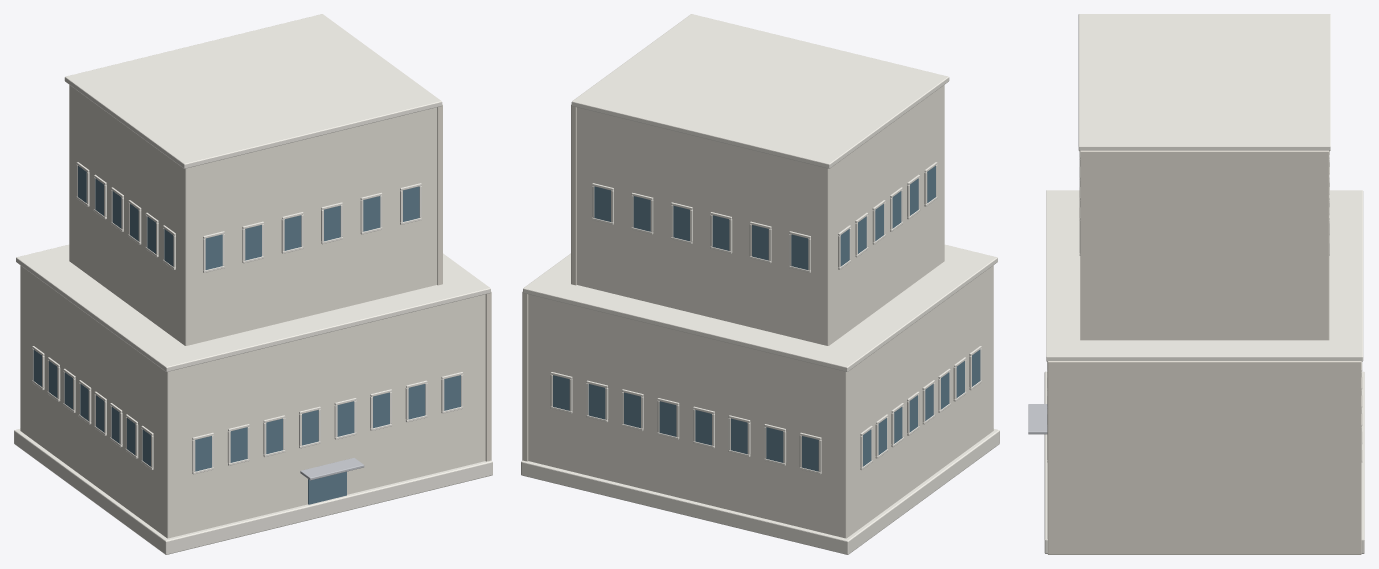
The model's file is bldg_cream_block.glb.
3 views of the same model, side by side, from view 1: azimuth 30°, elevation 25°; view 2: azimuth 150°, elevation 25°; view 3: azimuth 270°, elevation 25° (orthographic). The views are drawn at different scales.
Parts seen in each view (by area): view 1: bldg_cream_block_band_0_wall, bldg_cream_block_band_1_wall, bldg_cream_block_band_1_cornice, bldg_cream_block_band_0_cornice, bldg_cream_block_plinth, bldg_cream_block_band_0_pilaster, bldg_cream_block_band_1_pilaster, bldg_cream_block_entrance, bldg_cream_block_canopy, bldg_cream_block_band_0_back_6_glass, bldg_cream_block_band_0_back_1_glass, bldg_cream_block_band_0_back_4_glass (+3 smaller); view 2: bldg_cream_block_band_0_wall, bldg_cream_block_band_1_wall, bldg_cream_block_band_1_cornice, bldg_cream_block_band_0_cornice, bldg_cream_block_plinth, bldg_cream_block_band_0_pilaster, bldg_cream_block_band_1_pilaster, bldg_cream_block_band_0_front_6_glass, bldg_cream_block_band_0_front_1_glass, bldg_cream_block_band_0_front_4_glass, bldg_cream_block_band_1_front_0_glass, bldg_cream_block_band_1_front_2_glass (+1 smaller); view 3: bldg_cream_block_band_0_pilaster, bldg_cream_block_band_1_pilaster, bldg_cream_block_band_1_cornice, bldg_cream_block_band_0_cornice, bldg_cream_block_plinth, bldg_cream_block_canopy.
Part boxes in pixels (<box>): bldg_cream_block_band_0_wall: <box>20,265,485,538</box>; bldg_cream_block_band_1_wall: <box>69,85,436,345</box>; bldg_cream_block_band_1_cornice: <box>64,14,442,168</box>; bldg_cream_block_band_0_cornice: <box>16,244,490,371</box>; bldg_cream_block_plinth: <box>14,429,492,554</box>; bldg_cream_block_band_0_pilaster: <box>485,291,491,461</box>; bldg_cream_block_band_1_pilaster: <box>437,104,442,285</box>; bldg_cream_block_entrance: <box>308,471,346,504</box>; bldg_cream_block_canopy: <box>300,458,364,480</box>; bldg_cream_block_band_0_back_6_glass: <box>408,384,425,419</box>; bldg_cream_block_band_0_back_1_glass: <box>230,427,247,462</box>; bldg_cream_block_band_0_back_4_glass: <box>337,401,354,436</box>; bldg_cream_block_band_0_wall: <box>528,265,993,538</box>; bldg_cream_block_band_1_wall: <box>577,85,944,345</box>; bldg_cream_block_band_1_cornice: <box>571,14,949,168</box>; bldg_cream_block_band_0_cornice: <box>523,244,997,371</box>; bldg_cream_block_plinth: <box>521,429,999,554</box>; bldg_cream_block_band_0_pilaster: <box>522,291,528,461</box>; bldg_cream_block_band_1_pilaster: <box>571,104,576,285</box>; bldg_cream_block_band_0_front_6_glass: <box>588,384,605,419</box>; bldg_cream_block_band_0_front_1_glass: <box>766,427,783,462</box>; bldg_cream_block_band_0_front_4_glass: <box>659,401,676,436</box>; bldg_cream_block_band_1_front_0_glass: <box>791,234,808,269</box>; bldg_cream_block_band_1_front_2_glass: <box>712,215,729,250</box>; bldg_cream_block_band_0_pilaster: <box>1047,361,1361,554</box>; bldg_cream_block_band_1_pilaster: <box>1080,150,1329,340</box>; bldg_cream_block_band_1_cornice: <box>1078,14,1330,151</box>; bldg_cream_block_band_0_cornice: <box>1046,190,1363,361</box>; bldg_cream_block_plinth: <box>1044,371,1364,553</box>; bldg_cream_block_canopy: <box>1028,404,1047,434</box>.
Bounding box in the file's own units: 20.51 × 22.25 × 17.35.
